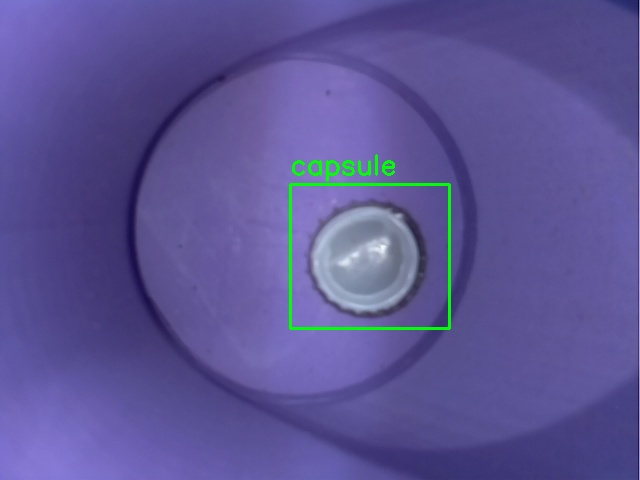capsule: (290, 184, 449, 328)
